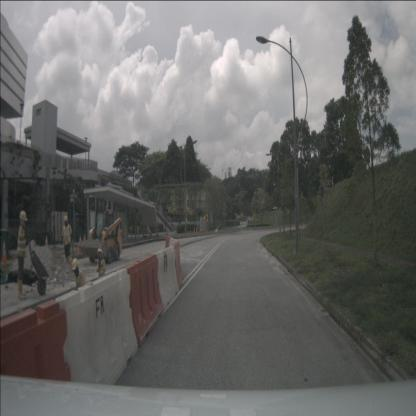movable_object-barrier: (55, 268, 138, 406), (0, 299, 72, 416), (122, 254, 164, 348), (153, 246, 179, 311), (171, 241, 183, 291), (169, 236, 178, 272), (165, 235, 171, 264)
movable_object-trafficcone: (0, 240, 8, 266), (77, 235, 83, 255), (44, 235, 49, 251), (83, 234, 87, 247)
